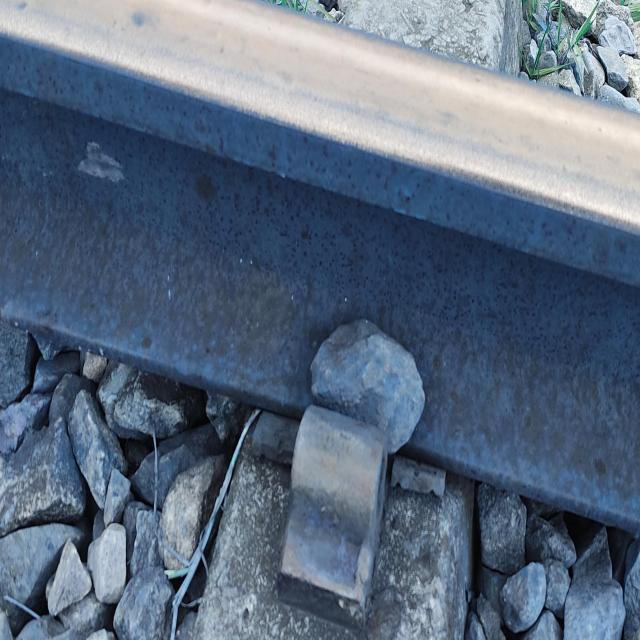Missing Fastener: (258, 345, 419, 640)
